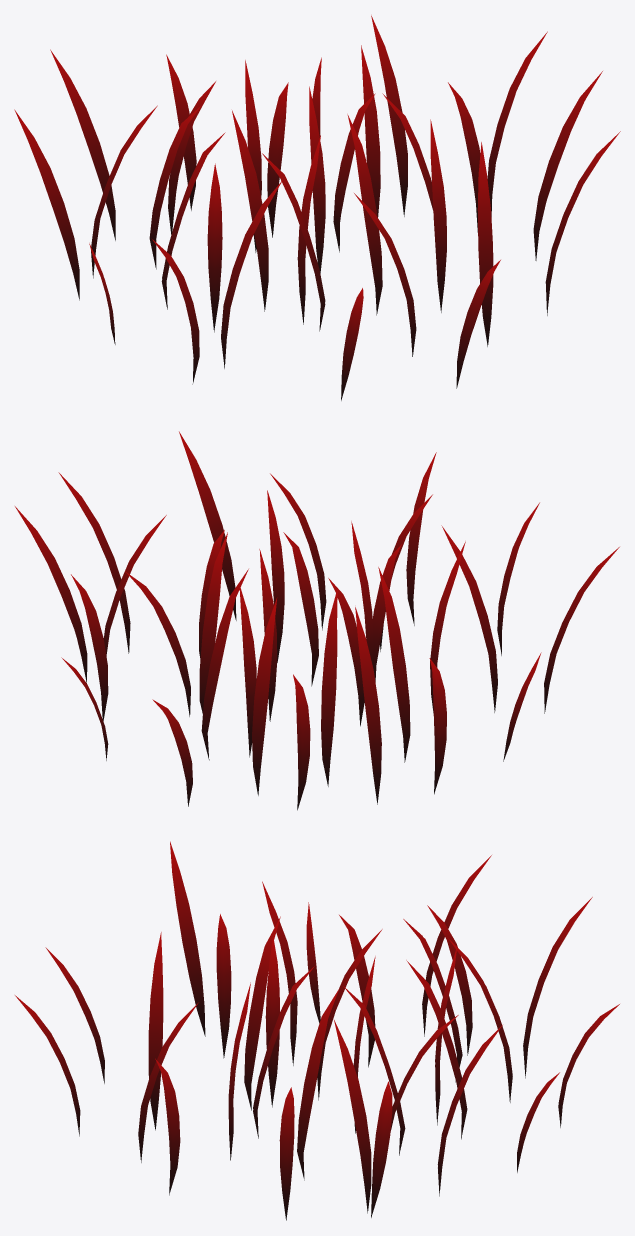
File: P_Grass_1.fbx
3 views of the same model, one above another, from view 1: azimuth 30°, elevation 25°; view 2: azimuth 150°, elevation 25°; view 3: azimuth 270°, elevation 25° (orthographic). The views are drawn at different scales.
Visible parts, largest first — view 1: Grass; view 2: Grass; view 3: Grass.
Part boxes in pixels (x1,y1,x2,y2): Grass: (14, 15, 620, 400); Grass: (15, 431, 619, 810); Grass: (15, 841, 619, 1220).
Size of the model in its own units: 179 by 64.45 by 189.
